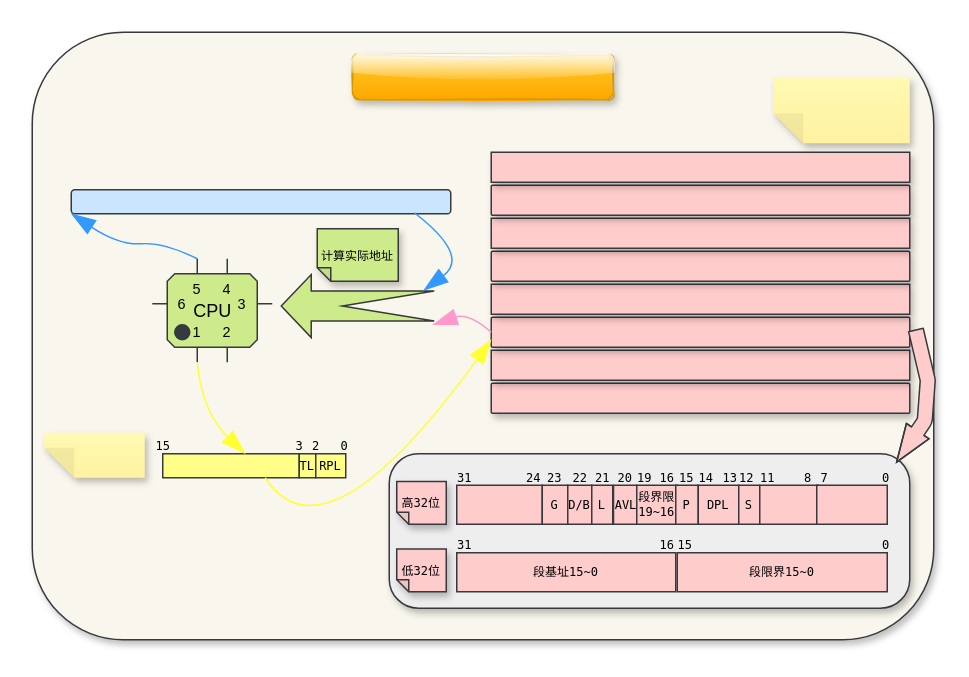
Some shapes in this 969 by 677 pixel diagram are drawn without their labels. Here are the shapes that lost their labels. From the top down, the centre of each, then its label:
point (483, 78): 保护模式
point (842, 111): 全局描述符表
point (260, 201): 通用寄存器(32位)
point (95, 457): 段寄存器
point (230, 465): 段描述符索引值
point (498, 504): 段基址 31~24
point (788, 504): TYPE
point (851, 504): 段基址 23~16
